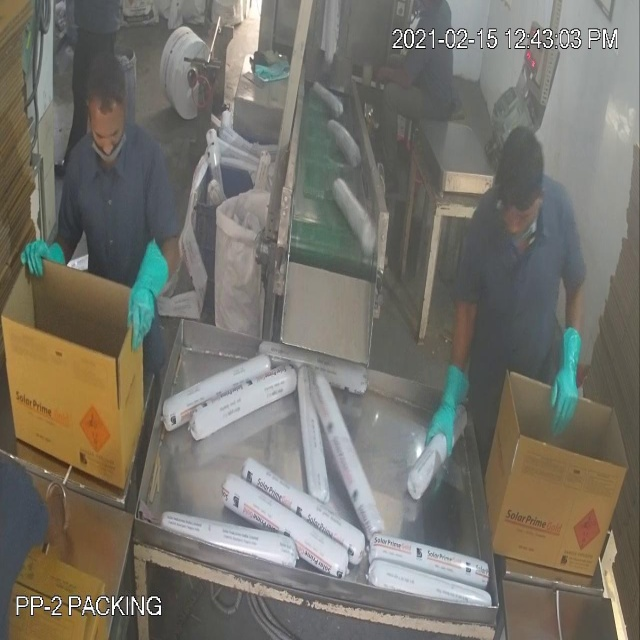Guantes: (545, 313, 594, 444), (420, 357, 476, 468), (125, 243, 172, 355)
Sin_guantes: (367, 53, 417, 93)
